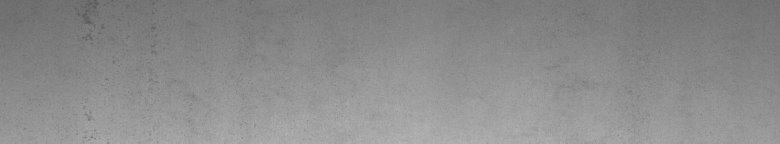ib: (76, 6, 156, 121)
